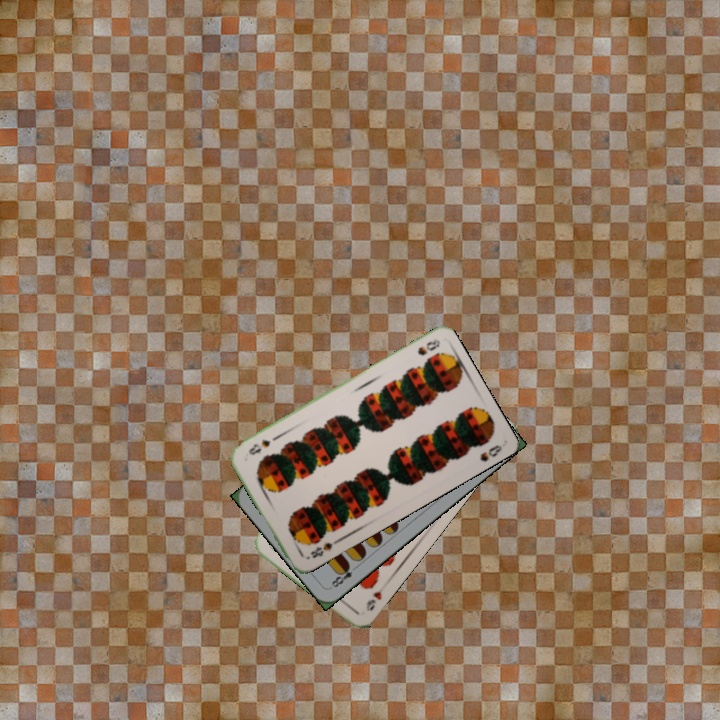E8: (326, 560, 361, 591)
H9: (362, 587, 385, 614)
S8: (306, 536, 340, 561), (413, 335, 443, 358)
